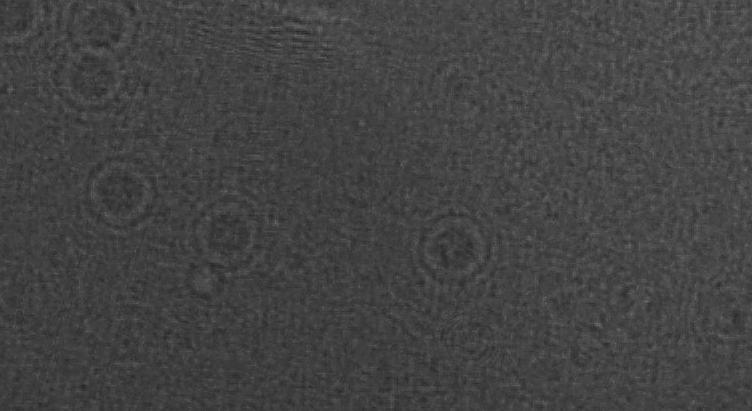bead: (403, 200, 503, 293), (73, 147, 168, 237), (192, 186, 277, 277), (48, 47, 144, 122), (53, 0, 153, 62), (0, 0, 60, 49)
